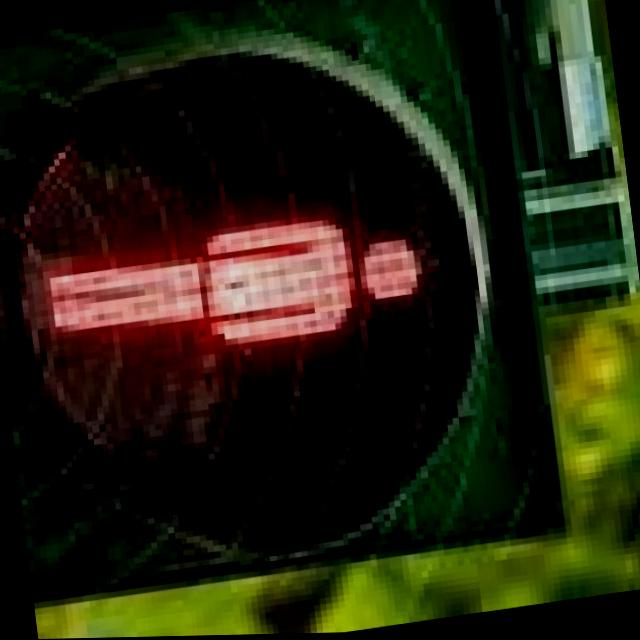red_light: (11, 161, 463, 429)
